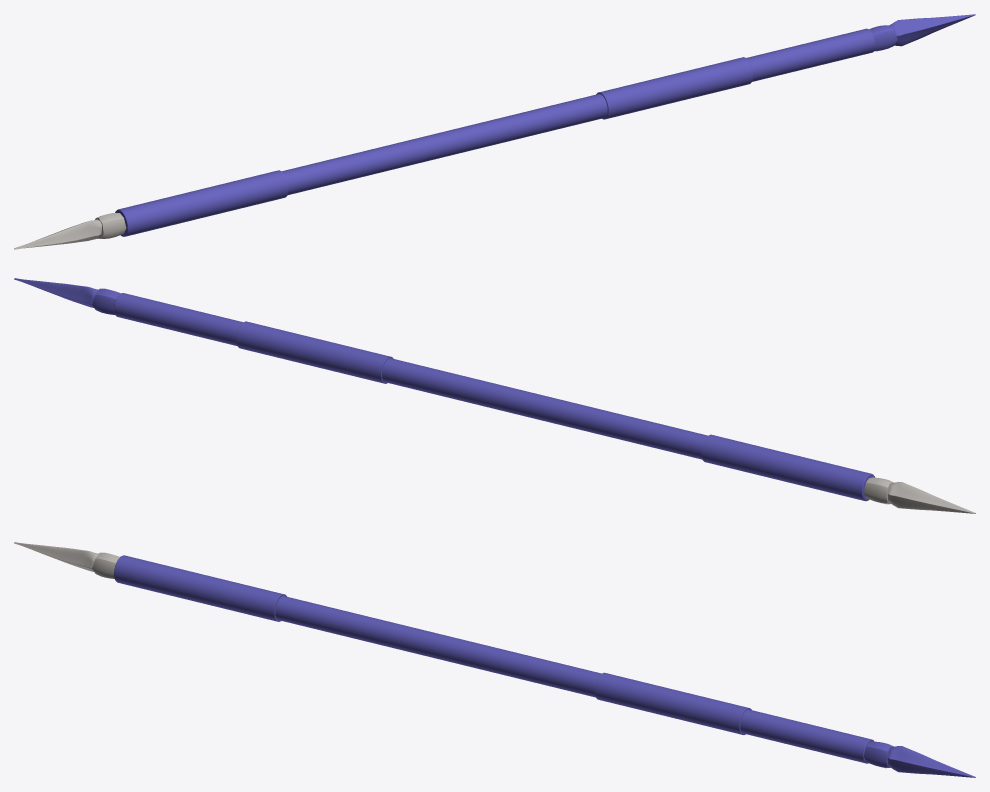
The model's file is javelin.glb.
The picture shows the model from 3 angles, top to bottom: view 1: azimuth 30°, elevation 25°; view 2: azimuth 150°, elevation 25°; view 3: azimuth 330°, elevation 25°; orthographic projection.
Parts seen in each view (by area): view 1: spear.002; view 2: spear.002; view 3: spear.002.
Part boxes in pixels (x1=…): spear.002: x1=14, y1=14, x2=975, y2=249; spear.002: x1=14, y1=278, x2=975, y2=513; spear.002: x1=14, y1=542, x2=975, y2=777.
Size of the model in its own units: 1.61 by 0.0412 by 0.0412.
